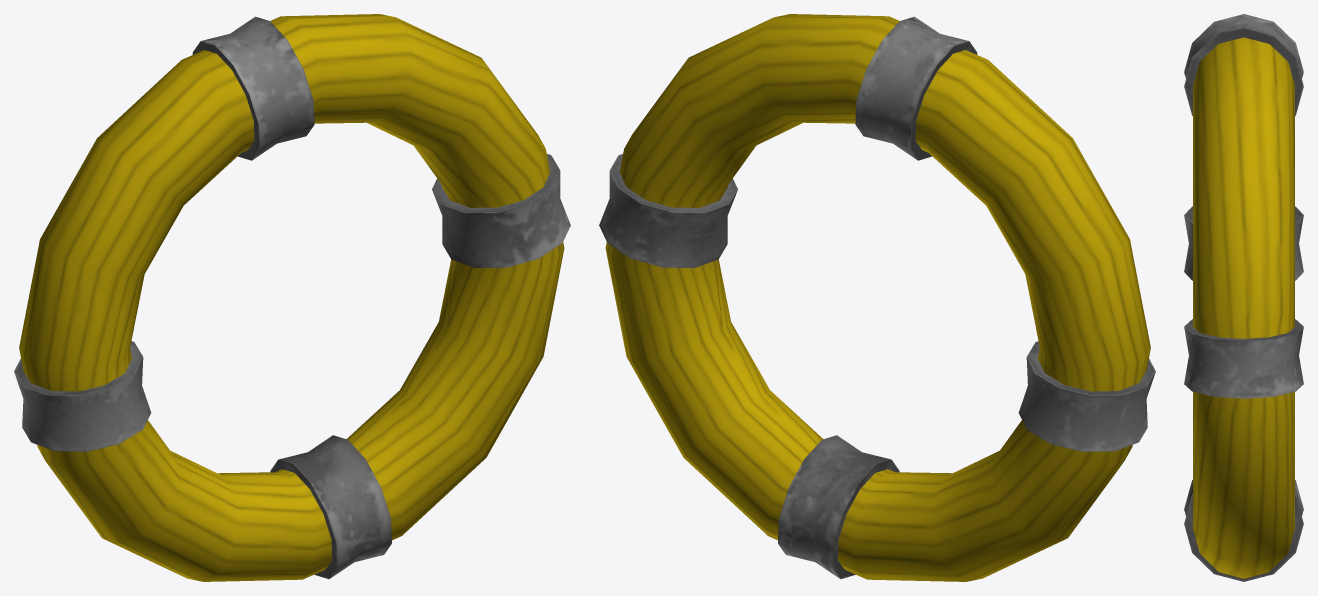
Rendered from ElectricalWires01_09.glb.
3 views of the same model, side by side, from view 1: azimuth 30°, elevation 25°; view 2: azimuth 150°, elevation 25°; view 3: azimuth 270°, elevation 25° (orthographic). The views are drawn at different scales.
Visible parts, largest first — view 1: Circle_013; view 2: Circle_013; view 3: Circle_013.
Boxes of the visible parts, x1,y1,x2,y2 form: Circle_013: (14,14,570,581); Circle_013: (599,14,1155,581); Circle_013: (1184,14,1303,581).
Bounding box in the file's own units: 0.3746 × 0.3747 × 0.0784.
Materials: 1 (1 with a texture image).
